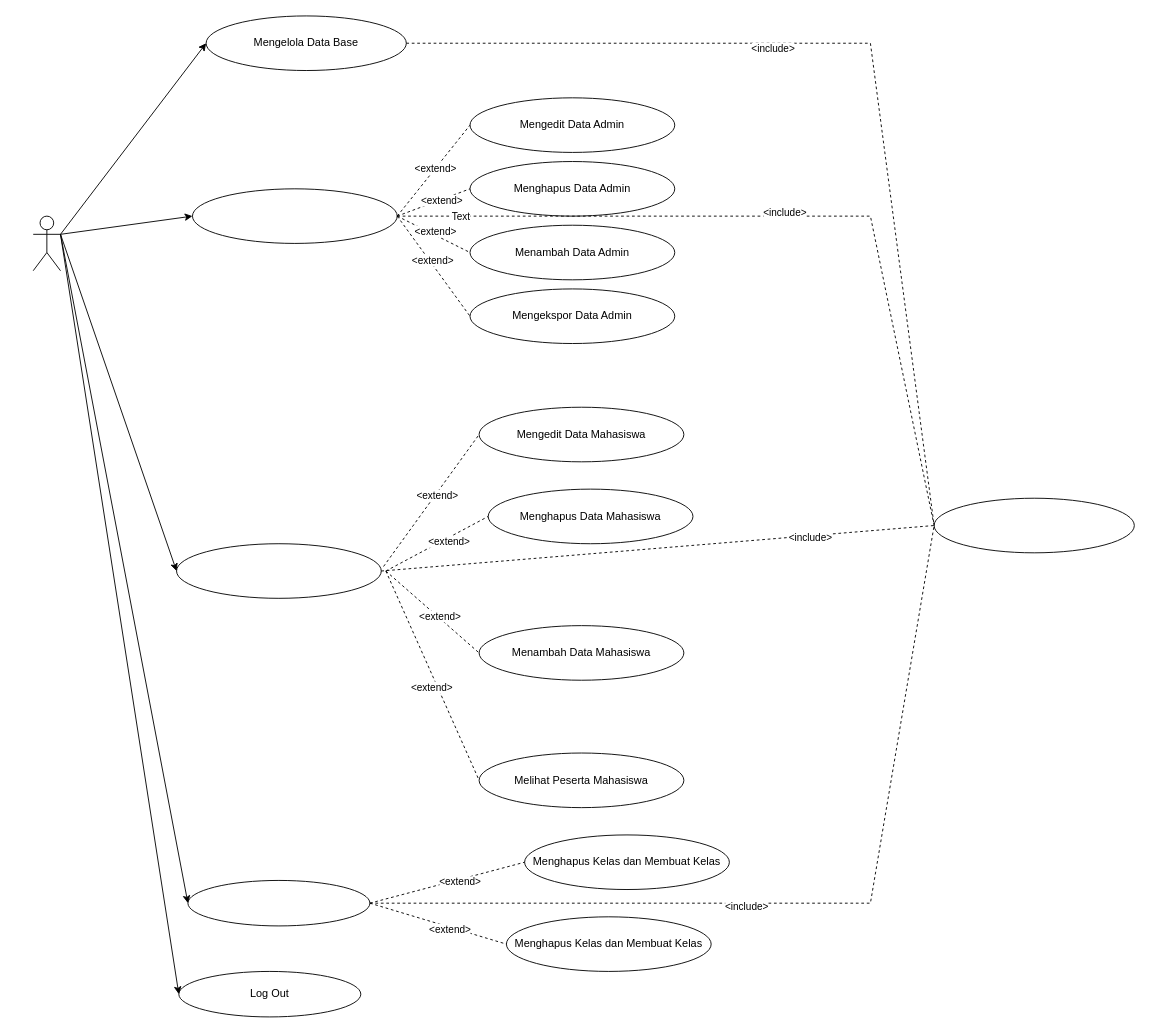
Image size: 1150x1033. Some labels were removed from this diagram. The box of each missing label's shape, as (x1, y1, x2, y2) in pixels:
Login: (933, 497, 1134, 553)
Mengelola Data Admin: (192, 188, 397, 243)
Mengelola Data Mahasiswa: (176, 543, 381, 598)
Mengelola Tugas: (187, 880, 370, 926)
Super Admin: (32, 215, 61, 271)
